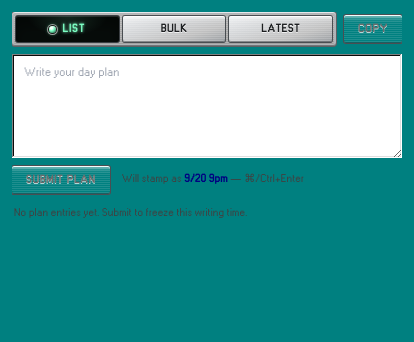
PlanTextLog › submits a stamped entry and stacks newer ones on top
Type "work really hard on BRAIN2" into the text box with placeholder "Write your day plan" at (207, 106), box [12,54,402,158]
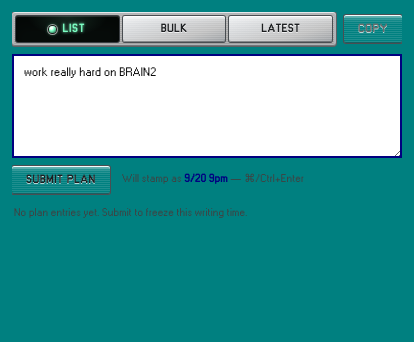
Click the button "Submit plan" at (61, 180), box [12,166,110,194]
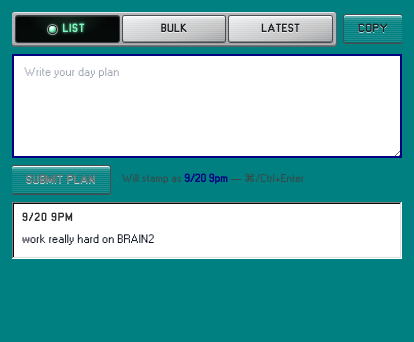
Now the text "work really hard on BRAIN2" is shown, box [22,234,154,244]
Now the list item shows "9/20 9pm", box [22,213,74,223]
Now the text box with placeholder "Write your day plan" is empty
Type "go on a walk" into the text box with placeholder "Write your day plan" at (207, 106), box [12,54,402,158]
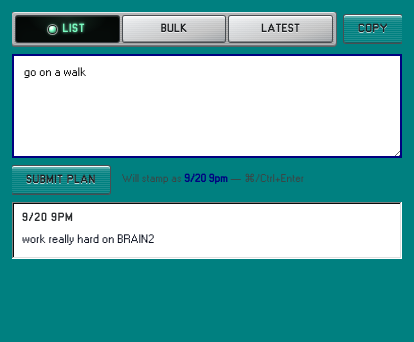
Click the button "Submit plan" at (61, 180), box [12,166,110,194]
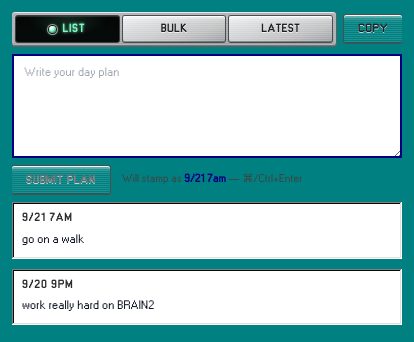
Now the list item "9/20 9pm work really hard on BRAIN2" is shown, box [12,268,402,325]
Now the list item "9/21 7am go on a walk" is shown, box [12,202,402,258]
